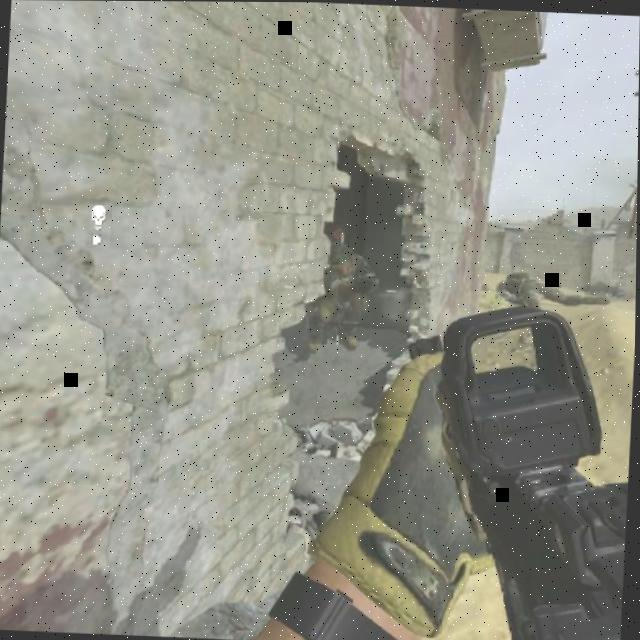MW2_body: (308, 243, 375, 353)
